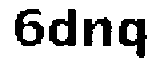6: (9, 7, 44, 50)
d: (47, 5, 78, 51)
n: (81, 14, 113, 52)
q: (117, 14, 151, 60)
